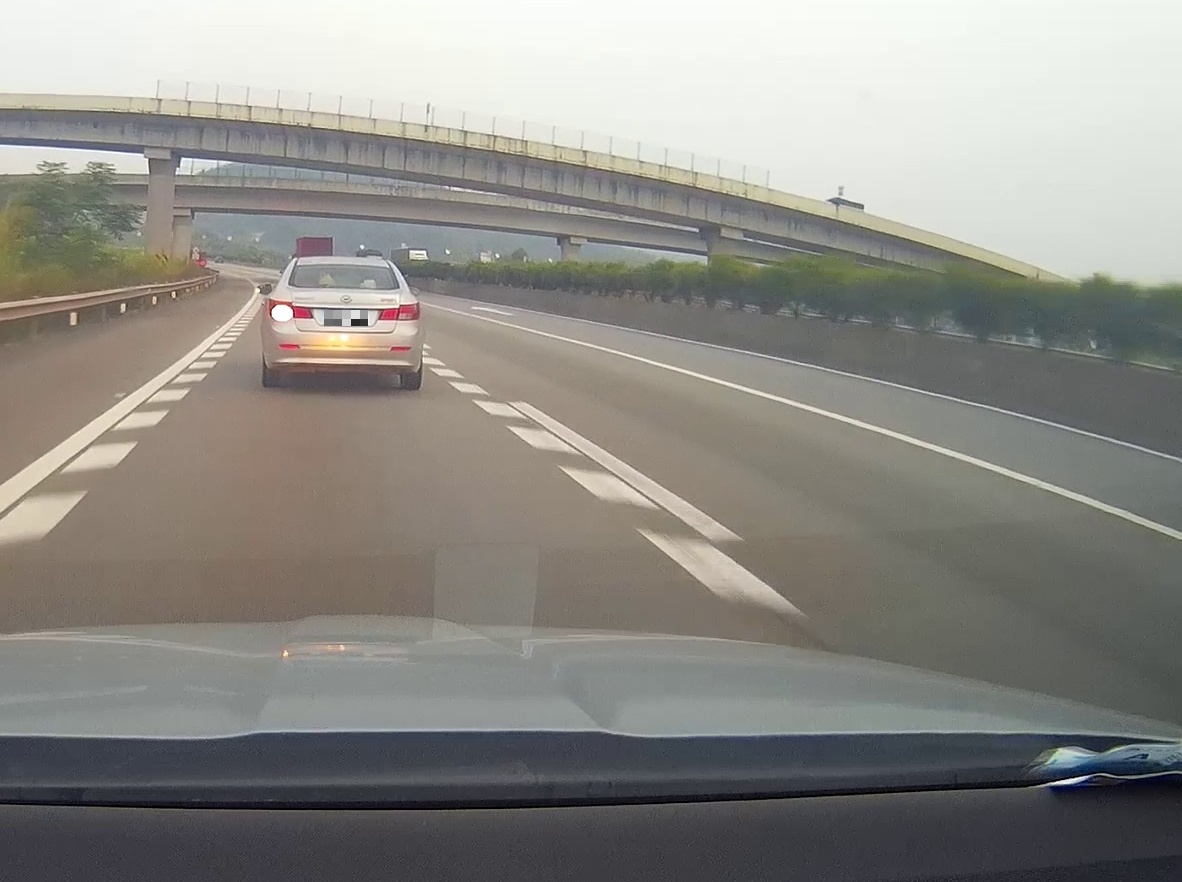L_light: (267, 297, 314, 319)
R_light: (378, 301, 421, 321)
T_light: (329, 284, 360, 288)
day-left: (260, 256, 423, 390)
plate_1: (324, 310, 368, 326)
